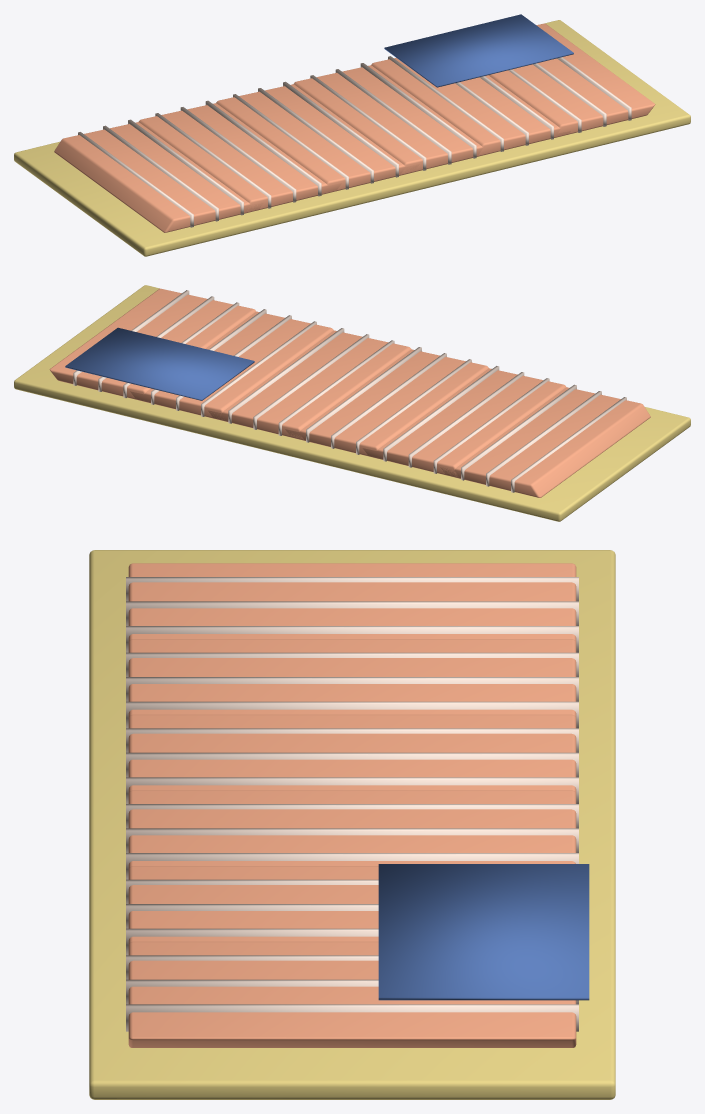
The model's file is SM_Rakfisk.glb.
3 views of the same model, one above another, from view 1: azimuth 30°, elevation 25°; view 2: azimuth 150°, elevation 25°; view 3: azimuth 270°, elevation 25° (orthographic). The views are drawn at different scales.
Visible parts, largest first — view 1: SM_Rakfisk; view 2: SM_Rakfisk; view 3: SM_Rakfisk.
Boxes of the visible parts, box(x1,y1,x2,y2) form: SM_Rakfisk: box(14, 14, 690, 256); SM_Rakfisk: box(14, 285, 690, 521); SM_Rakfisk: box(89, 550, 615, 1099).
Size of the model in its own units: 0.24 by 0.0125 by 0.1.
